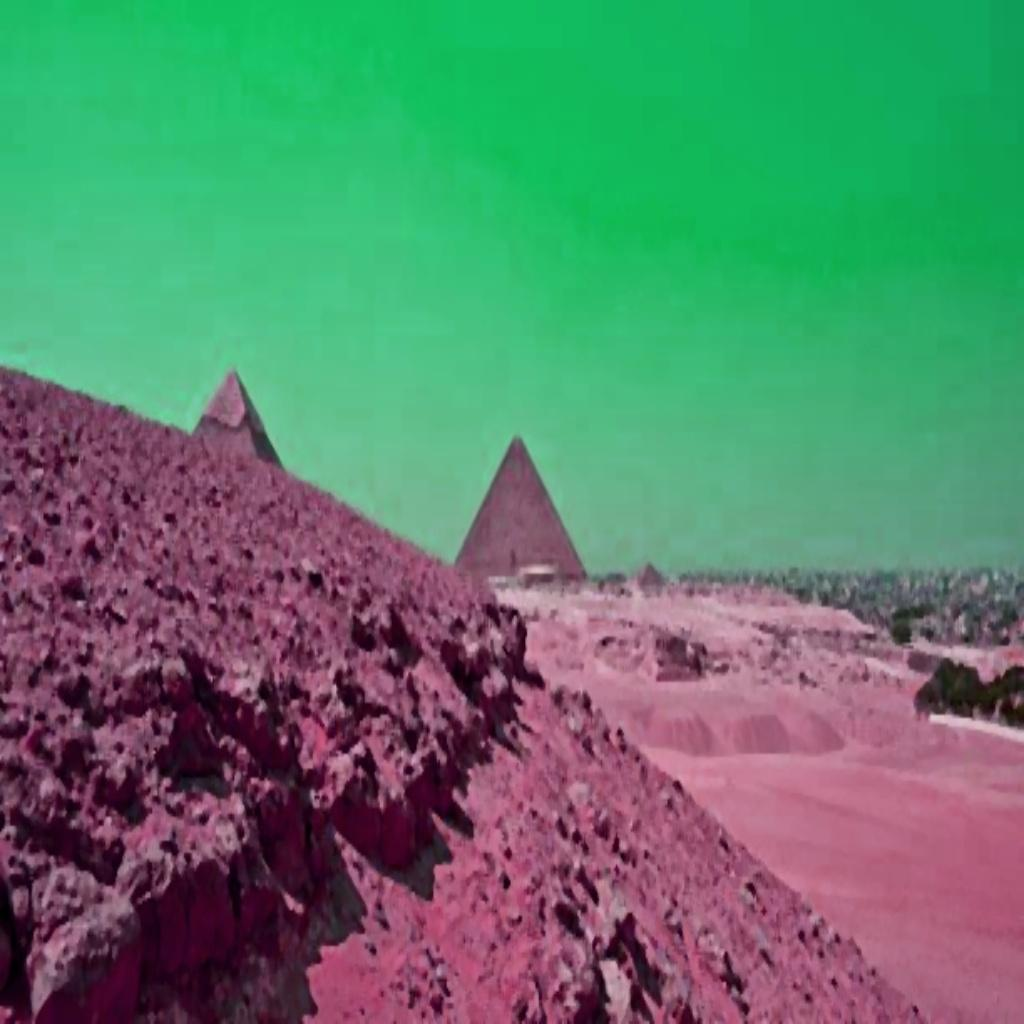Great Pyramids of Giza: (452, 430, 588, 586)
